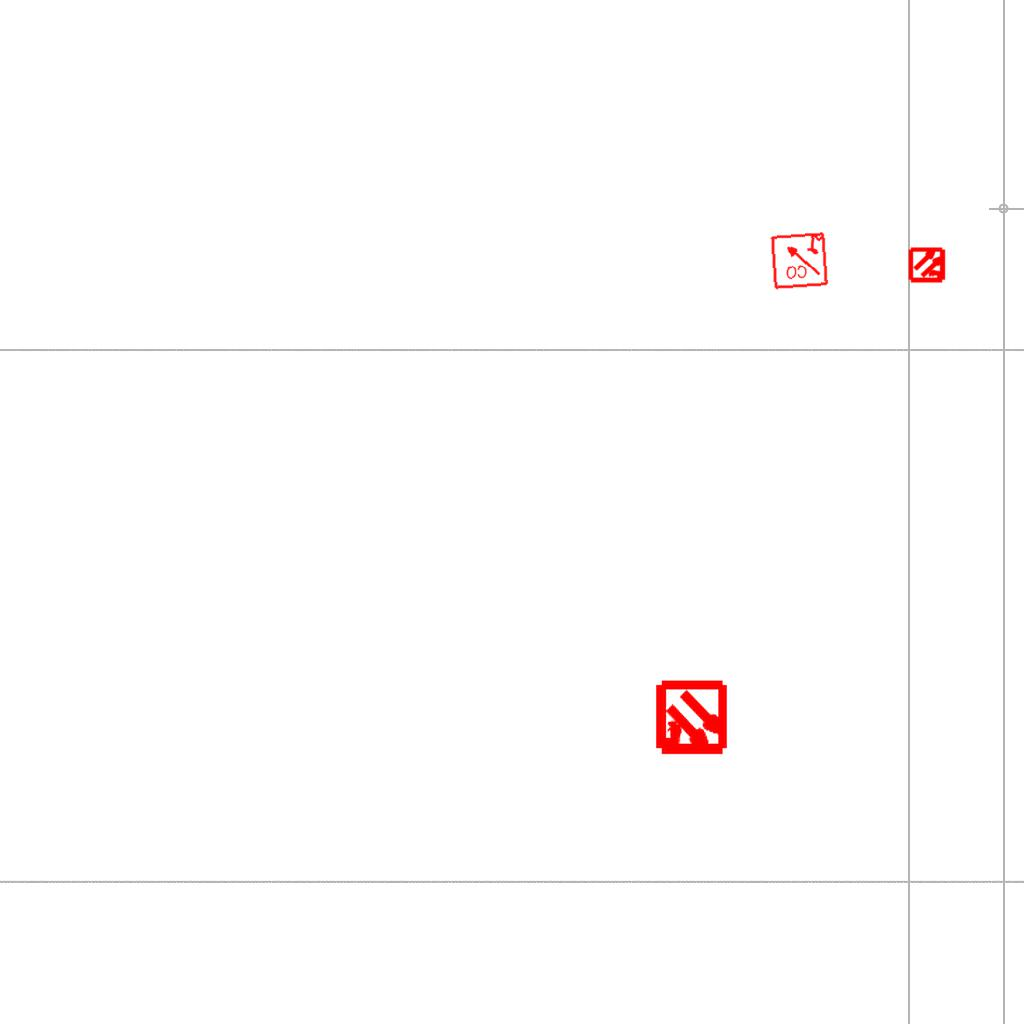OT_Multisensormelder_(Kombination_RMO_WMD): (635, 663, 748, 776), (900, 237, 956, 293)
ROA_Rauchmelder_optisch_mit_Signalgeber_(Sockelsirene): (769, 230, 829, 290)
